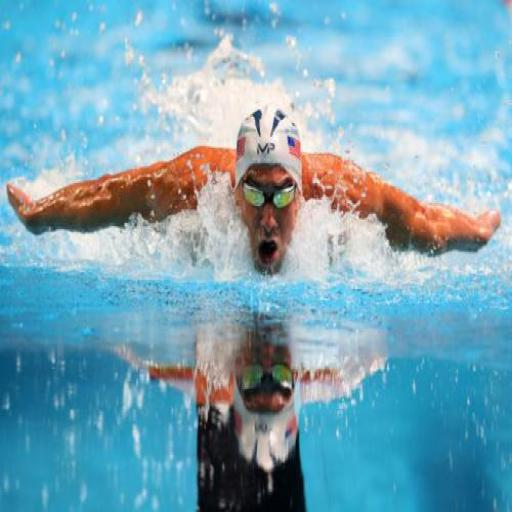swimming: (4, 100, 502, 280)
